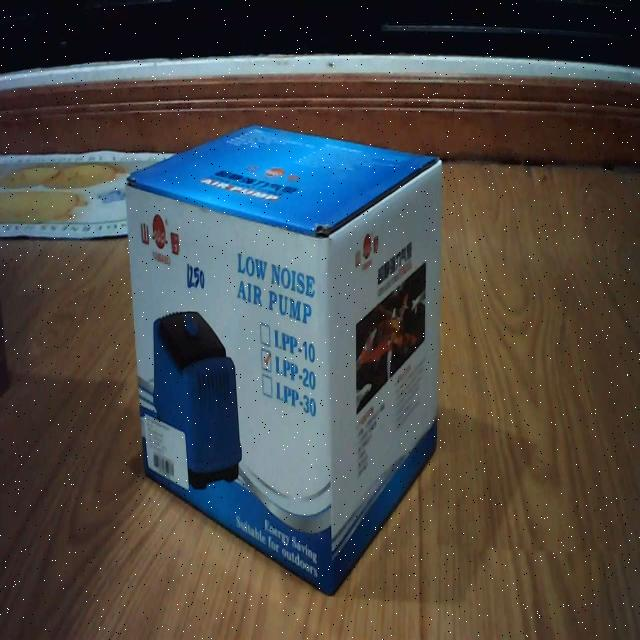YAMANO_LPP_20: (124, 105, 456, 610)
